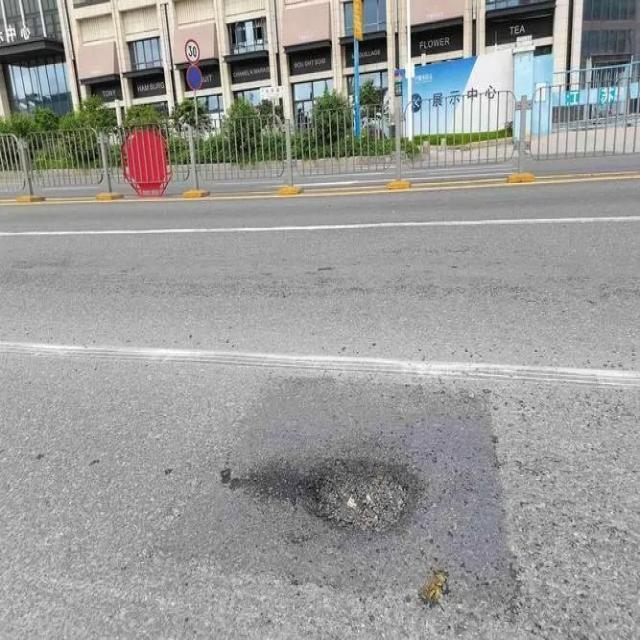Buraco: (293, 456, 424, 538)
